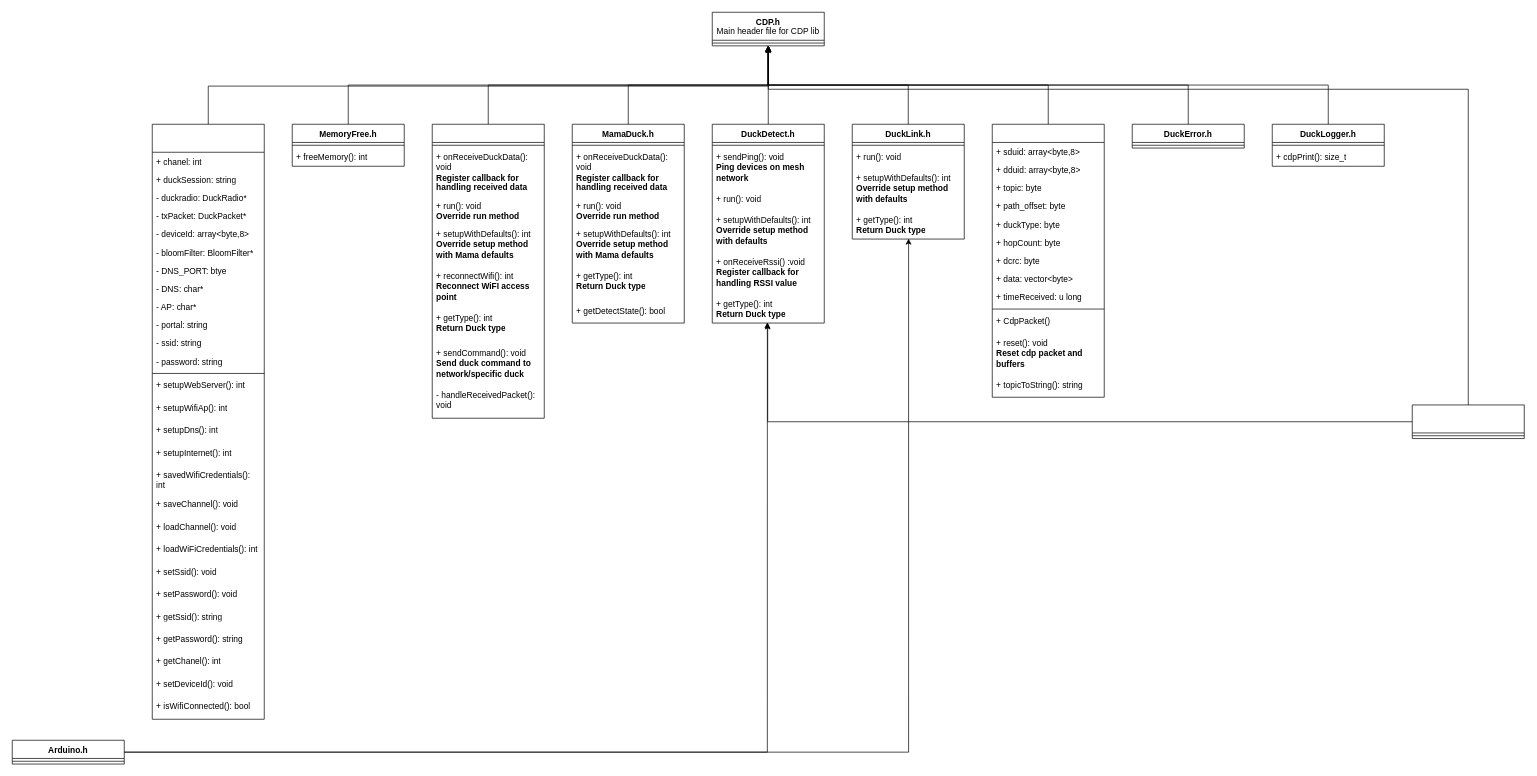
Image size: 1537x776. Some labels were removed from this diagram. The shapes that lost their labels are listed below. From the top down, each one's box as (x1, y1, x2, y2) in pixels, then its label:
(432, 124, 544, 418): PapaDuck.h
(992, 124, 1104, 397): CdpPacket.h
(152, 124, 264, 719): DuckNet.h WiFi functionality
(1412, 404, 1524, 439): cdpcfg CDP Config
